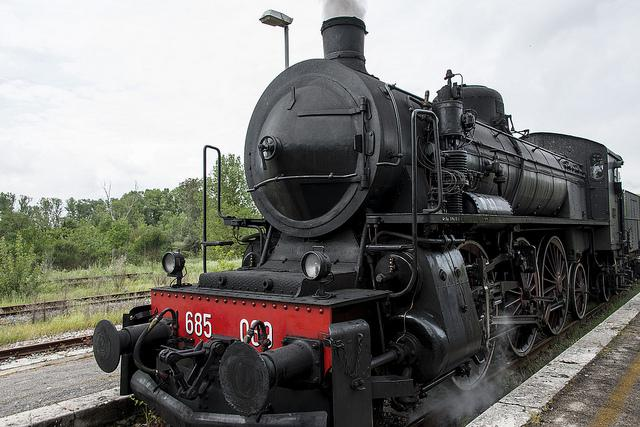Train: (90, 18, 640, 423)
